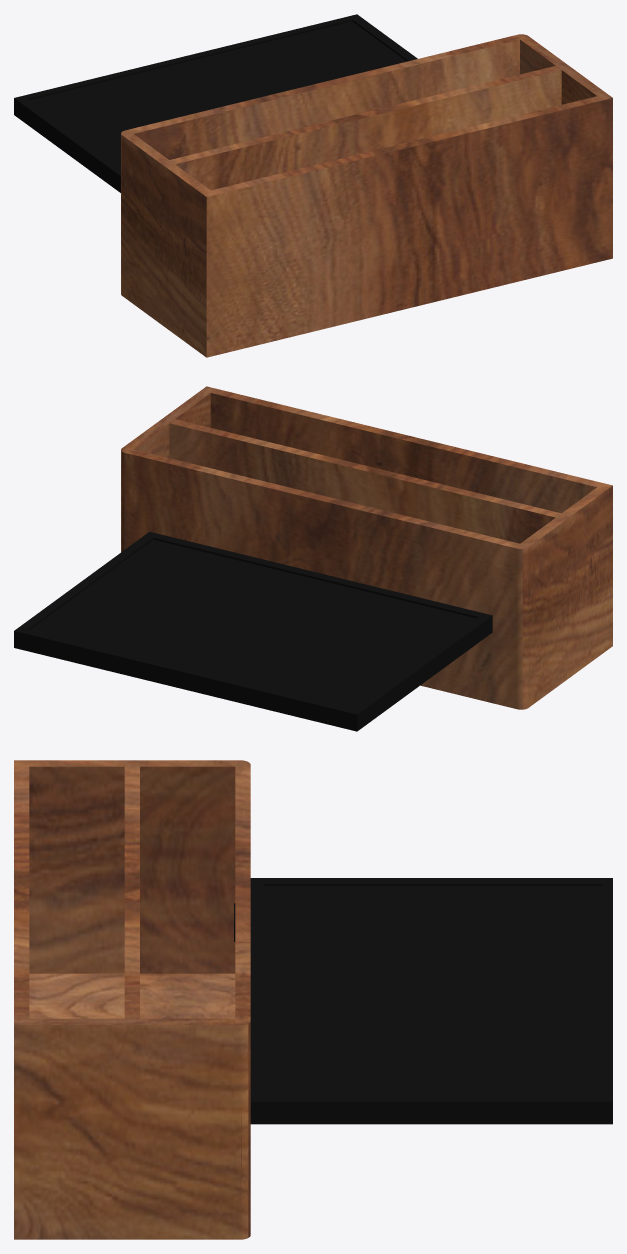
3 renders of one model, top to bottom at view 1: azimuth 30°, elevation 25°; view 2: azimuth 150°, elevation 25°; view 3: azimuth 270°, elevation 25°, orthographic. The views are drawn at different scales.
Parts seen in each view (by area): view 1: stand_base, stand_tv; view 2: stand_base, stand_tv; view 3: stand_base, stand_tv.
Boxes of the visible parts, bbox=[...] form: stand_base: bbox=[121, 34, 612, 357]; stand_tv: bbox=[14, 14, 417, 192]; stand_base: bbox=[121, 386, 612, 709]; stand_tv: bbox=[14, 531, 492, 731]; stand_base: bbox=[14, 760, 250, 1239]; stand_tv: bbox=[234, 878, 612, 1124].
Bounding box in the file's own units: 0.9 × 0.34 × 0.86.
2 materials, 1 textured.
